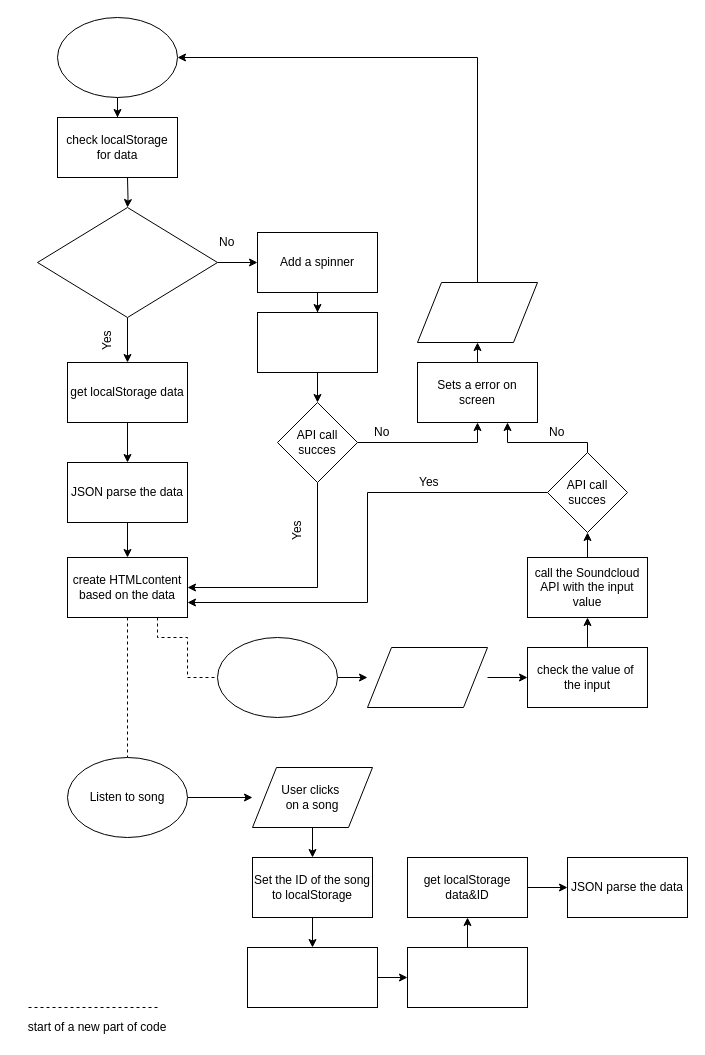
This 705x1055 diagram has some shape labels left out. Here are the shapes that lost their labels. From the top down, the box of each, then its label:
(56, 16, 178, 98): homepage
(36, 206, 218, 318): Does the localStorage contain data ?
(416, 282, 538, 342): user clicks OK
(256, 312, 378, 372): call the Soundcloud API
(216, 636, 338, 718): User search
(366, 646, 488, 708): user types something in the searchbar
(246, 946, 378, 1008): navigate to #player/name_of_song
(406, 946, 528, 1008): toggle the section from home to player
